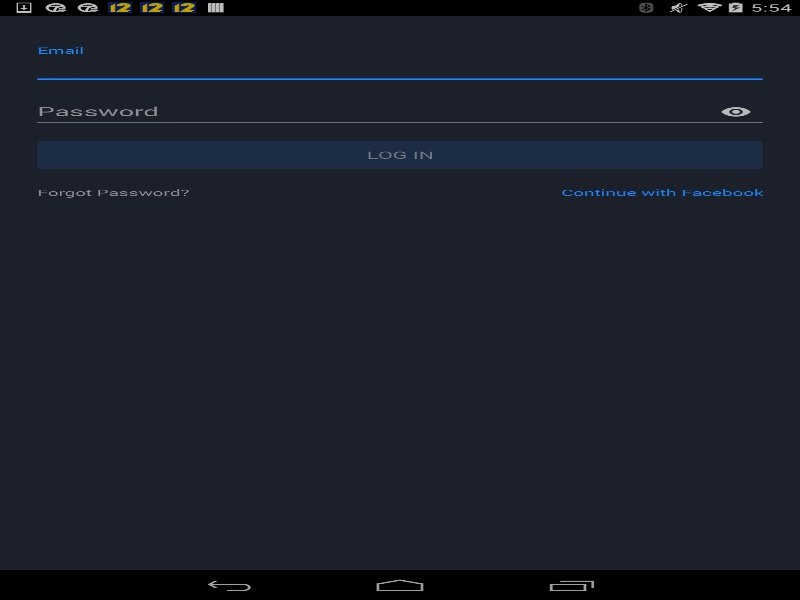Button: (32, 460, 768, 500), (32, 500, 768, 537), (32, 137, 768, 172), (544, 177, 778, 207), (21, 177, 206, 207), (245, 540, 362, 570), (437, 540, 554, 570), (704, 97, 768, 127)
Input: (32, 53, 768, 84), (32, 96, 768, 127)
